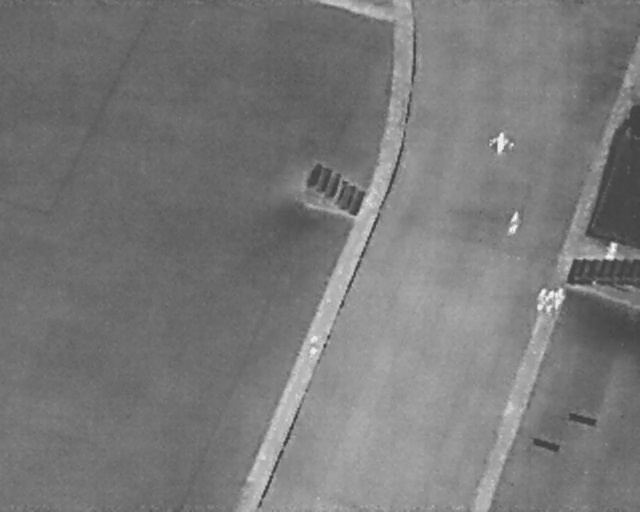Person: (492, 128, 510, 158), (549, 285, 568, 312), (507, 208, 524, 237), (307, 333, 321, 359), (534, 285, 547, 312), (605, 238, 619, 260), (543, 289, 555, 314)
